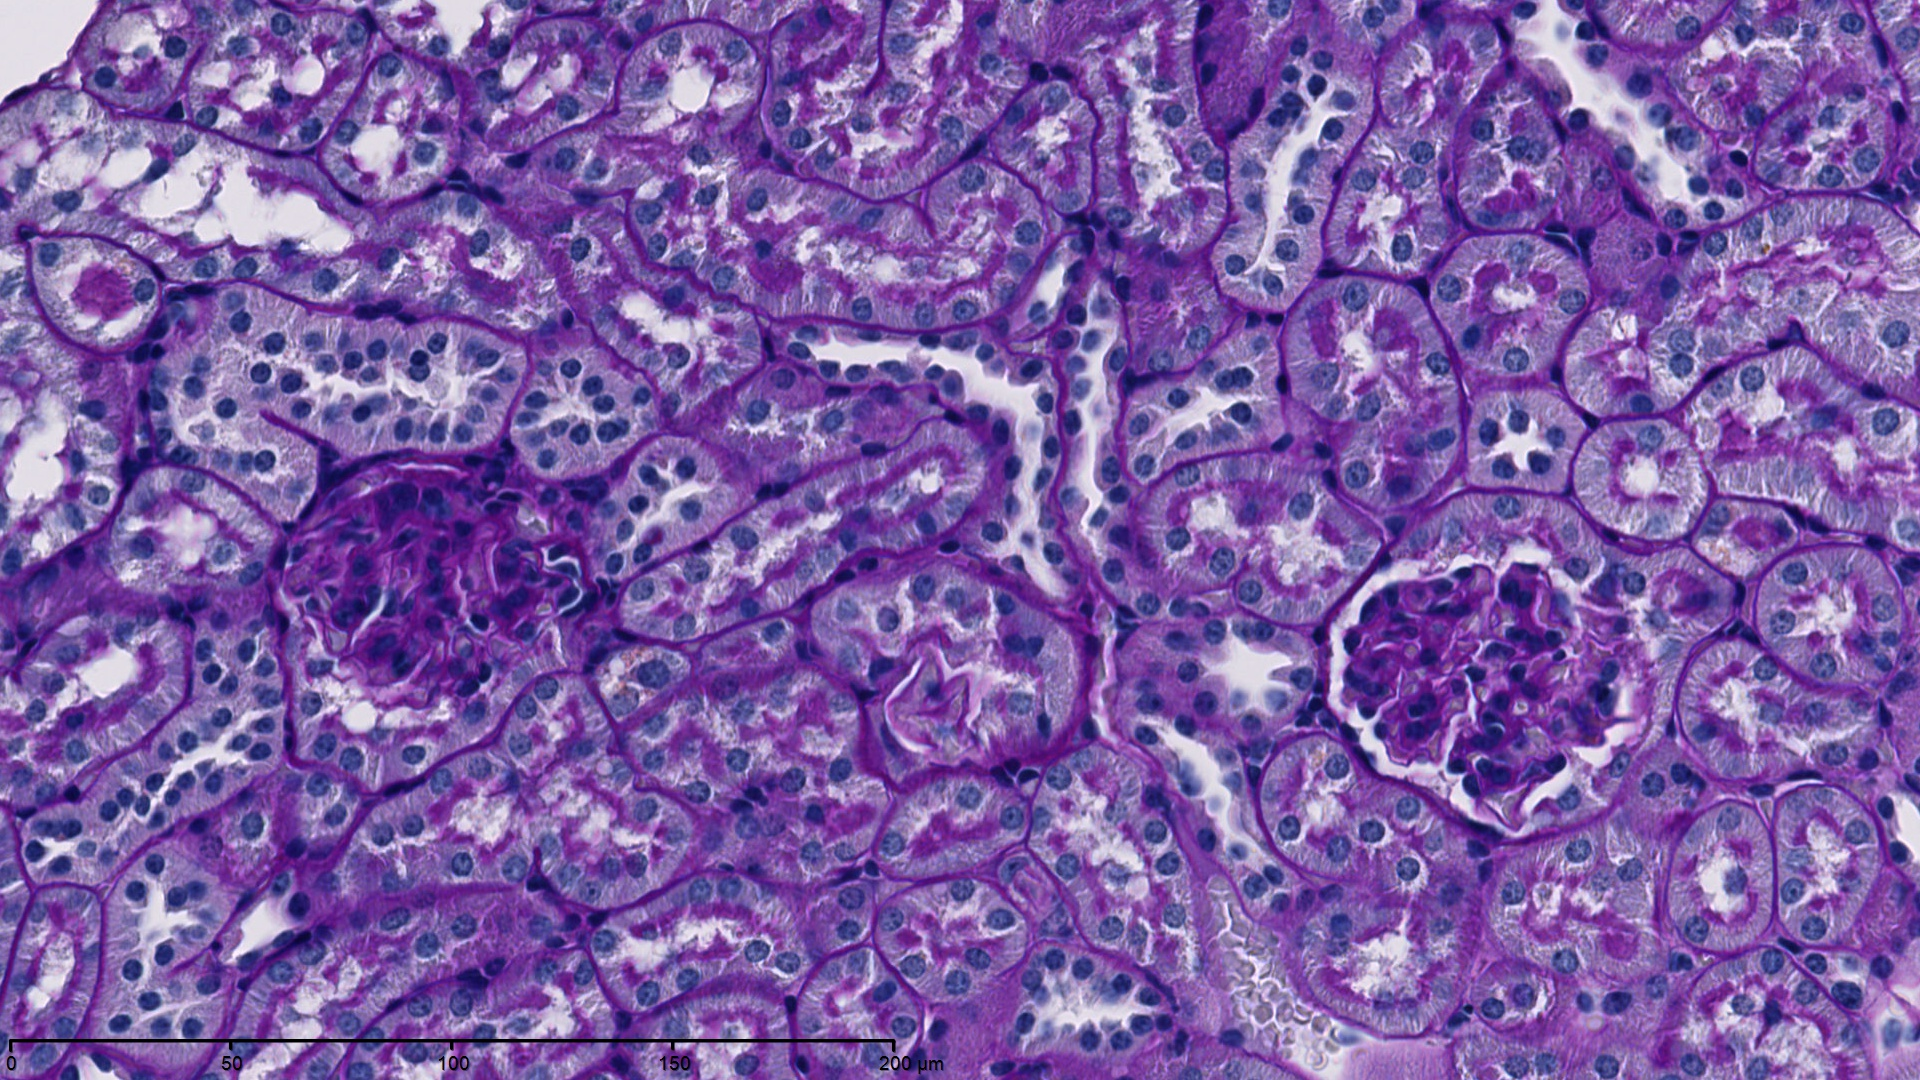Glomeruli: (257, 440, 615, 723), (1335, 563, 1643, 825)
